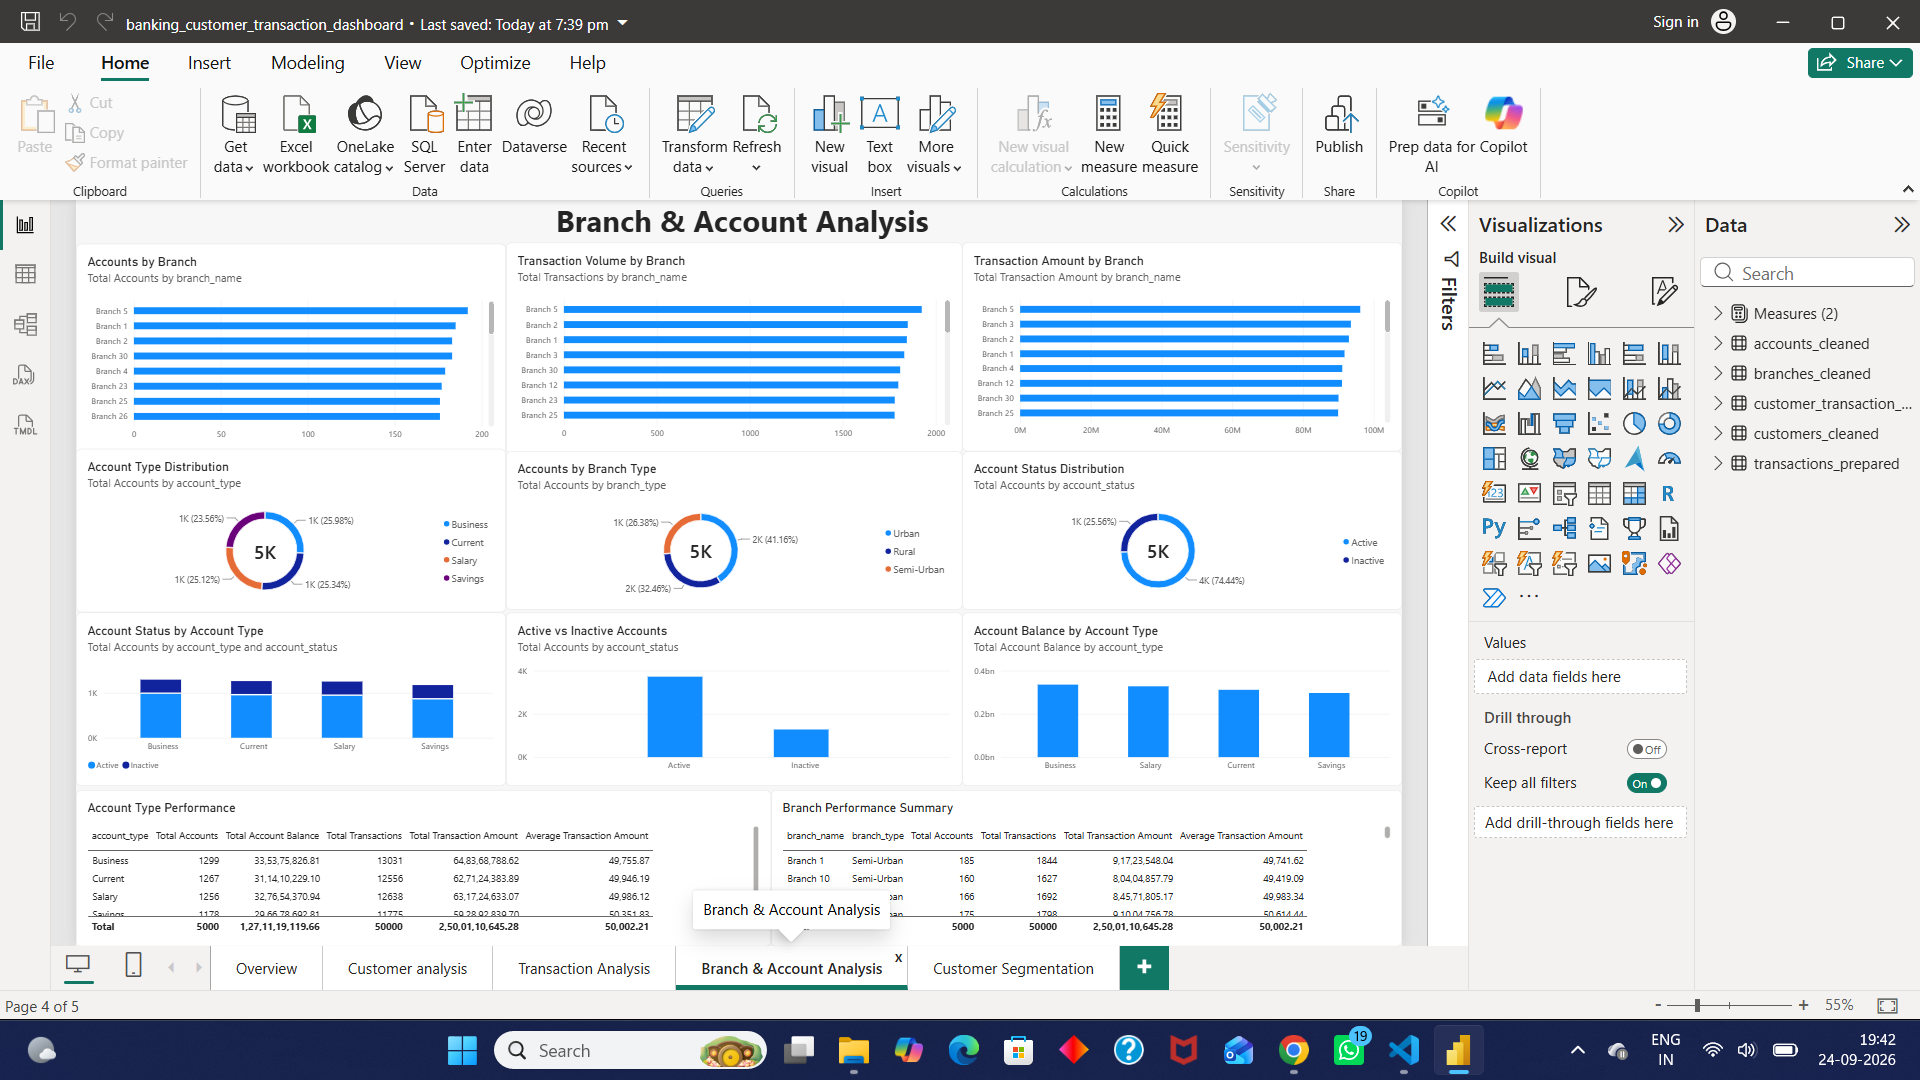

This screenshot's page, from the dashboard's own definition file:
{"tool":"powerbi","page":{"name":"Branch & Account Analysis","canvas":[1920,1080],"ordinal":3},"visuals":[{"type":"textbox","box":[9.4,0,1911,58.1],"z":0},{"type":"clusteredBarChart","title":"Accounts by Branch","fields":{"Category":["branches_cleaned.branch_name"],"Y":["Measures (2).Total Accounts"]},"box":[0,63.3,622.5,305.8],"z":1},{"type":"clusteredBarChart","title":"Transaction Volume by Branch","fields":{"Category":["branches_cleaned.branch_name"],"Y":["Measures (2).Total Transactions"]},"box":[622.5,61.5,660.5,305.8],"z":2},{"type":"clusteredBarChart","title":"Transaction Amount by Branch","fields":{"Category":["branches_cleaned.branch_name"],"Y":["Measures (2).Total Transaction Amount"]},"box":[1283,61.5,637,302.2],"z":3},{"type":"donutChart","title":"Accounts by Branch Type","fields":{"Category":["branches_cleaned.branch_type"],"Y":["Measures (2).Total Accounts"]},"box":[622.5,363.7,660.5,229.8],"z":4},{"type":"donutChart","title":"Account Type Distribution","fields":{"Category":["accounts_cleaned.account_type"],"Y":["Measures (2).Total Accounts"]},"box":[0,360.1,622.5,237.1],"z":5},{"type":"clusteredColumnChart","title":"Account Balance by Account Type","fields":{"Category":["accounts_cleaned.account_type"],"Y":["Measures (2).Total Account Balance"]},"box":[1283,597.2,637,251.5],"z":6},{"type":"donutChart","title":"Account Status Distribution","fields":{"Category":["accounts_cleaned.account_status"],"Y":["Measures (2).Total Accounts"]},"box":[1283,363.7,637,229.8],"z":7},{"type":"clusteredColumnChart","title":"Active vs Inactive Accounts","fields":{"Category":["accounts_cleaned.account_status"],"Y":["Measures (2).Total Accounts"]},"box":[622.5,597.2,660.5,251.5],"z":8},{"type":"columnChart","title":"Account Status by Account Type","fields":{"Category":["accounts_cleaned.account_type"],"Series":["accounts_cleaned.account_status"],"Y":["Measures (2).Total Accounts"]},"box":[0,597.2,622.5,251.5],"z":9},{"type":"tableEx","title":"Branch Performance Summary","fields":{"Values":["branches_cleaned.branch_name","branches_cleaned.branch_type","Measures (2).Total Accounts","Measures (2).Total Transactions","Measures (2).Total Transaction Amount","Measures (2).Average Transaction Amount"]},"box":[1006.2,854.2,913.9,226.2],"z":10},{"type":"tableEx","title":"Account Type Performance","fields":{"Values":["accounts_cleaned.account_type","Measures (2).Total Accounts","Measures (2).Total Account Balance","Measures (2).Total Transactions","Measures (2).Total Transaction Amount","Measures (2).Average Transaction Amount"]},"box":[0,854.2,1006.2,226.2],"z":11}]}

Visuals, with their boxes on the page's 1920x1080 design canvas (x1, y1, x2, y2). These are canvas units, not pixel positions in the 1920x1080 screenshot, which may show the page scaled, cropped or inside an application window:
textbox: BBox(9, 0, 1920, 58)
"Accounts by Branch" clusteredBarChart: BBox(0, 63, 622, 369)
"Transaction Volume by Branch" clusteredBarChart: BBox(622, 62, 1283, 367)
"Transaction Amount by Branch" clusteredBarChart: BBox(1283, 62, 1920, 364)
"Accounts by Branch Type" donutChart: BBox(622, 364, 1283, 594)
"Account Type Distribution" donutChart: BBox(0, 360, 622, 597)
"Account Balance by Account Type" clusteredColumnChart: BBox(1283, 597, 1920, 849)
"Account Status Distribution" donutChart: BBox(1283, 364, 1920, 594)
"Active vs Inactive Accounts" clusteredColumnChart: BBox(622, 597, 1283, 849)
"Account Status by Account Type" columnChart: BBox(0, 597, 622, 849)
"Branch Performance Summary" tableEx: BBox(1006, 854, 1920, 1080)
"Account Type Performance" tableEx: BBox(0, 854, 1006, 1080)
